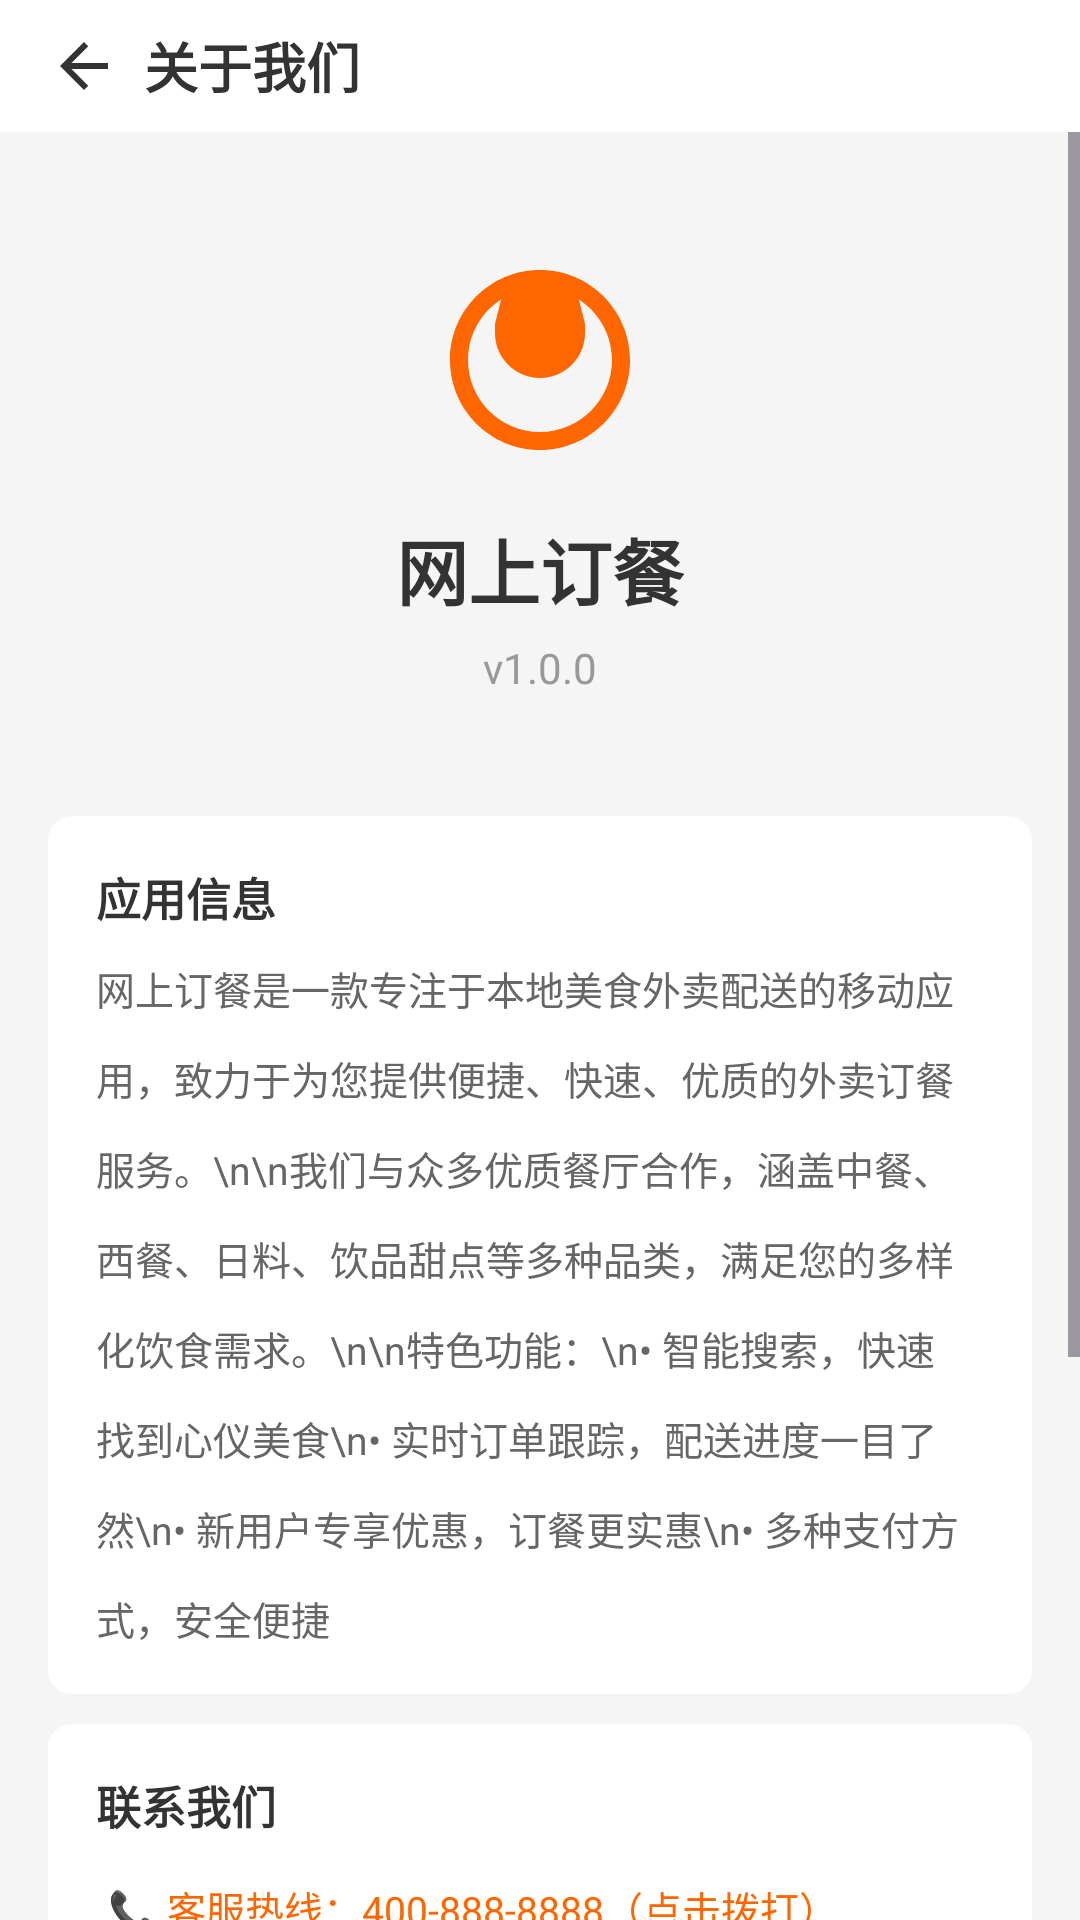

Where to tap for icons on this 1080*1920 app screen, as point (x, y):
arrow back: point (84, 66)
